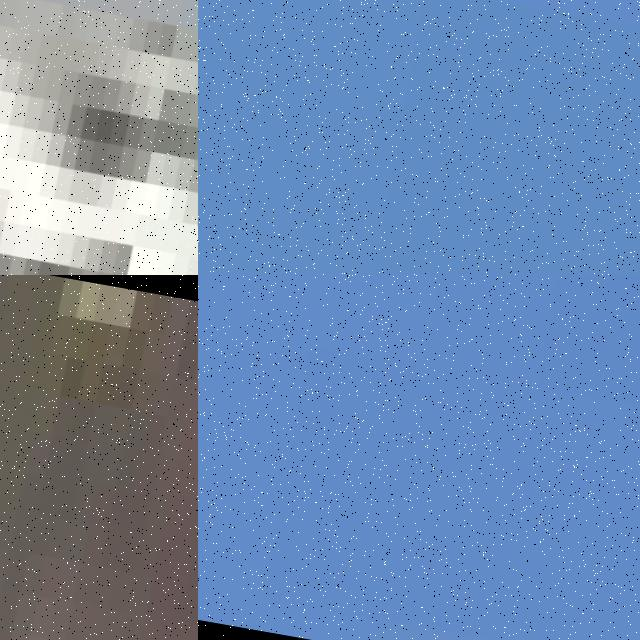drone: (0, 275, 198, 640), (0, 0, 198, 275)
